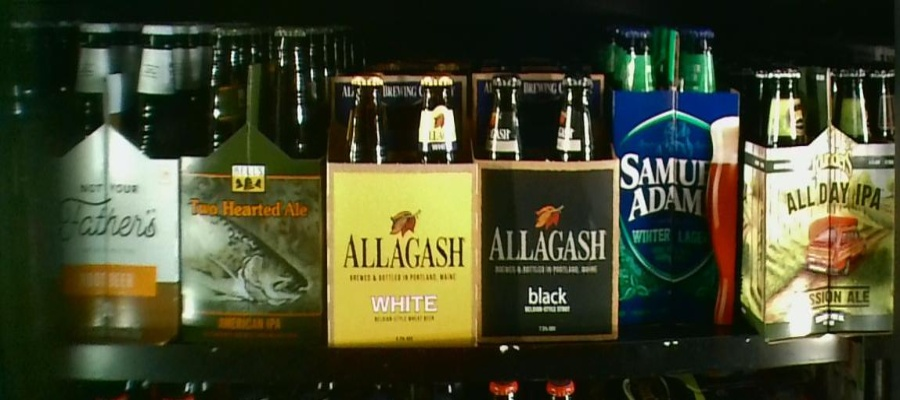bottle: (182, 1, 328, 351), (45, 6, 183, 345), (742, 54, 900, 335), (329, 64, 475, 353), (607, 20, 741, 326), (477, 62, 614, 345)
